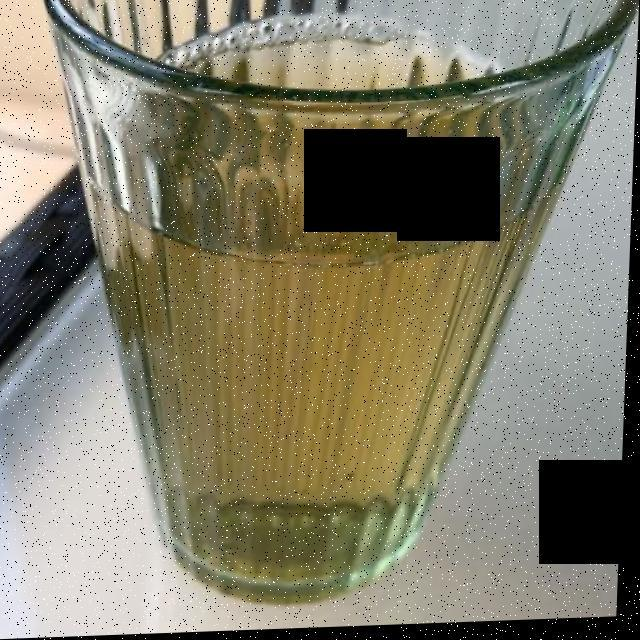tea: (84, 36, 589, 582)
